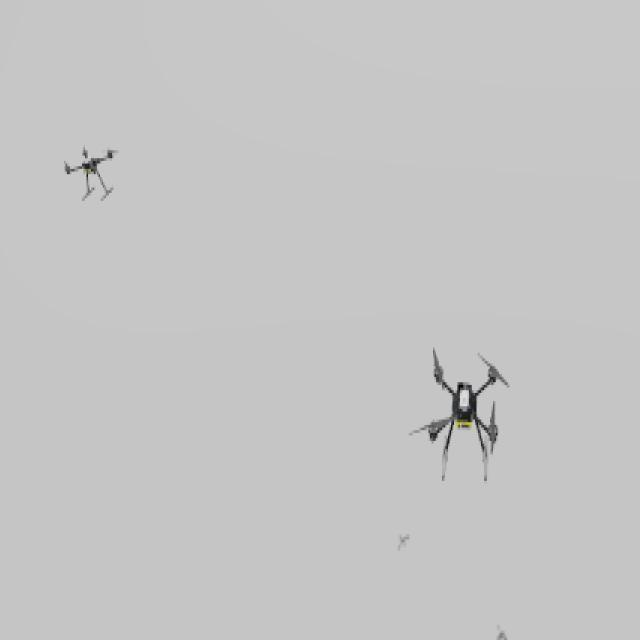drone: (408, 348, 512, 496), (56, 134, 121, 207)
